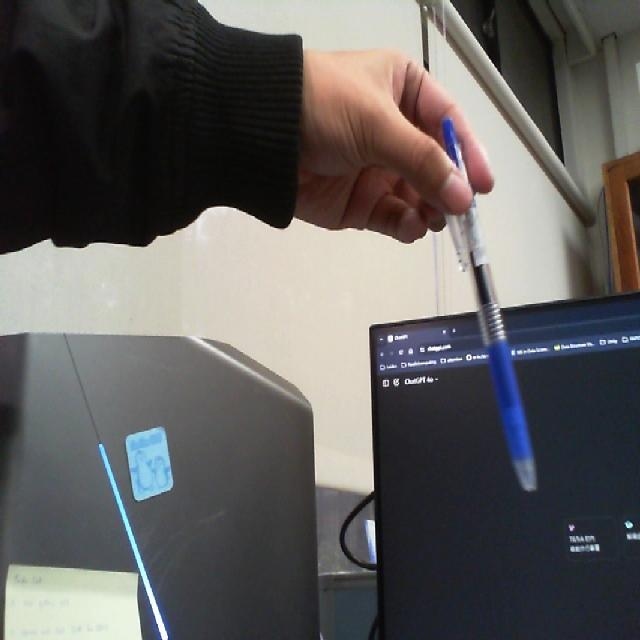Pen: (424, 97, 544, 504)
